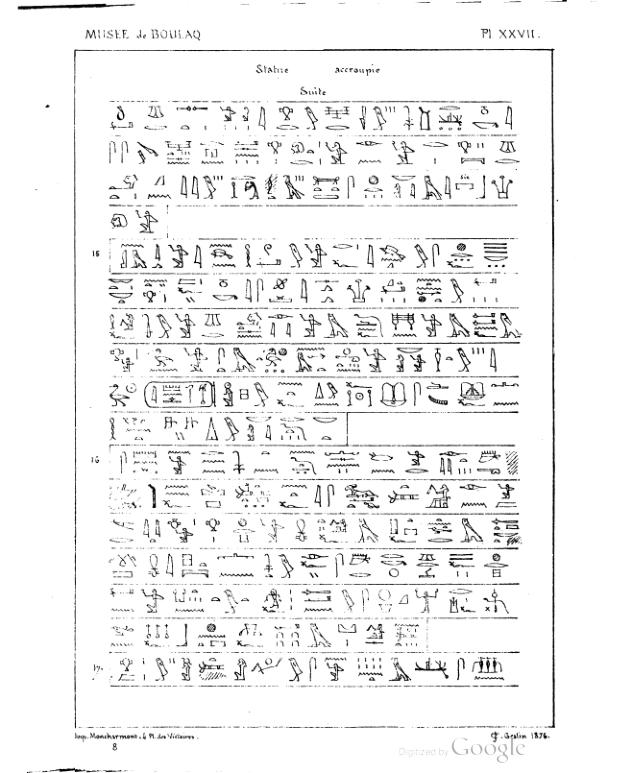circle: (142, 379, 218, 409)
